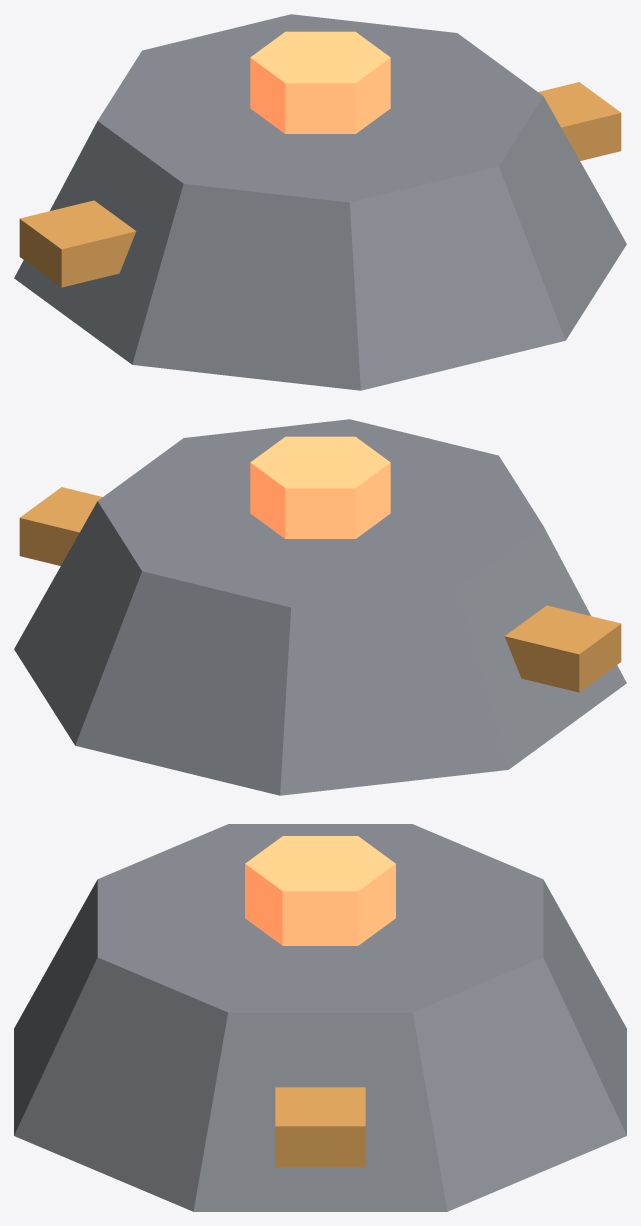
Rendered from mine.glb.
3 renders of one model, top to bottom at view 1: azimuth 30°, elevation 25°; view 2: azimuth 150°, elevation 25°; view 3: azimuth 270°, elevation 25°, orthographic. The views are drawn at different scales.
Visible parts, largest first — view 1: body, light; view 2: body, light; view 3: body, light.
Part boxes in pixels (x1=…): body: x1=14, y1=14, x2=626, y2=390; light: x1=250, y1=31, x2=390, y2=133; body: x1=14, y1=419, x2=626, y2=795; light: x1=250, y1=436, x2=390, y2=538; body: x1=14, y1=824, x2=626, y2=1211; light: x1=245, y1=836, x2=395, y2=945.
Size of the model in its own units: 0.46 by 0.16 by 0.4065.
